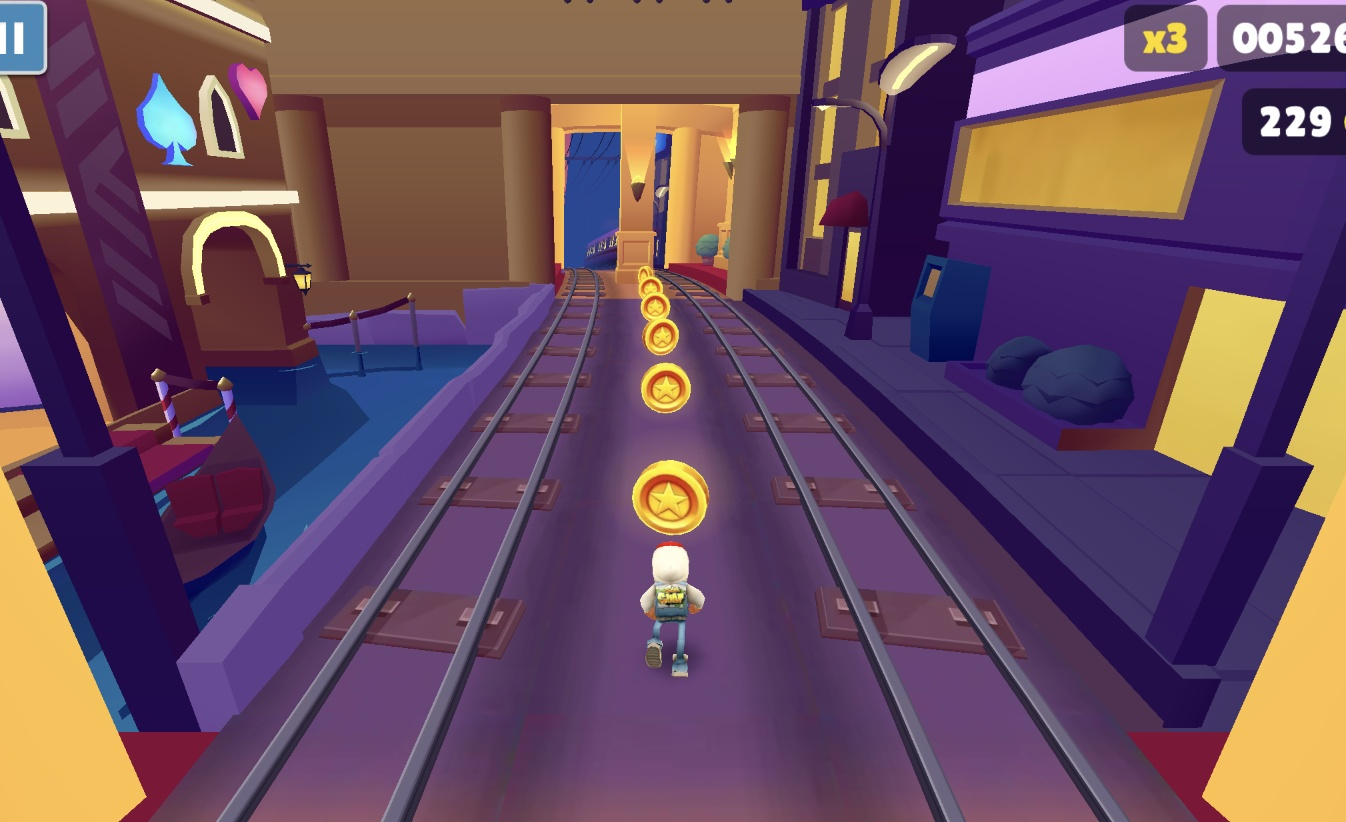pillar: (616, 106, 666, 286)
